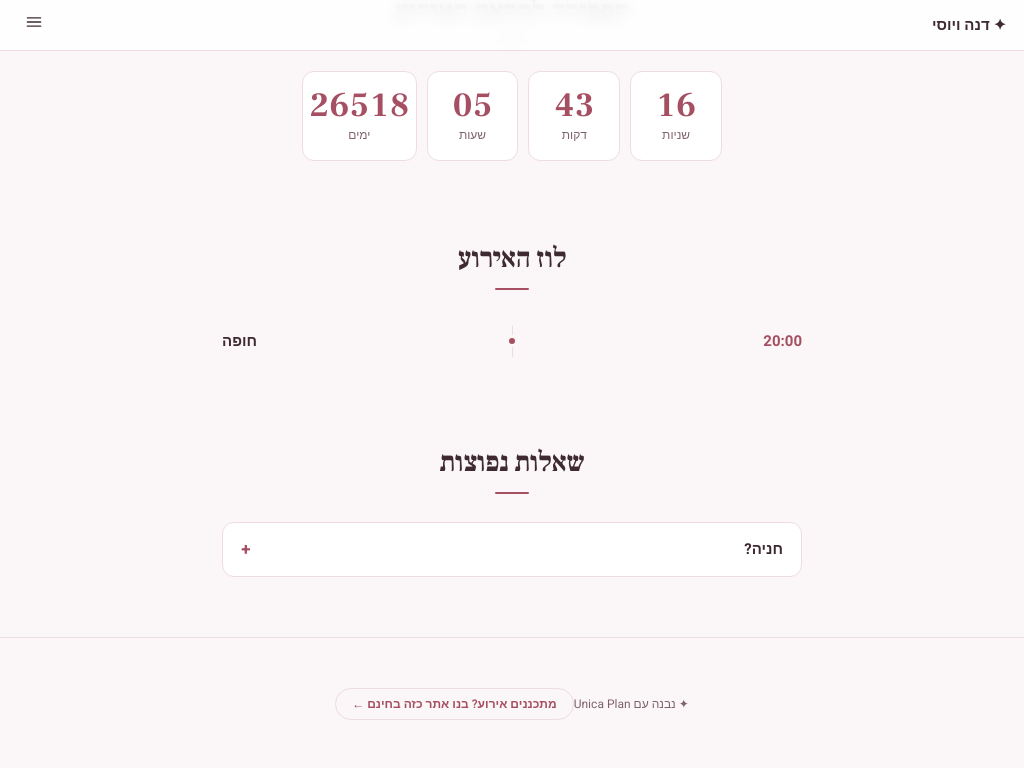
Test: event site menu and FAQ › an FAQ question reports whether it is open
(page scrolled)
Click the button "חניה? +" at [764, 549], box 223,523 -> 801,576
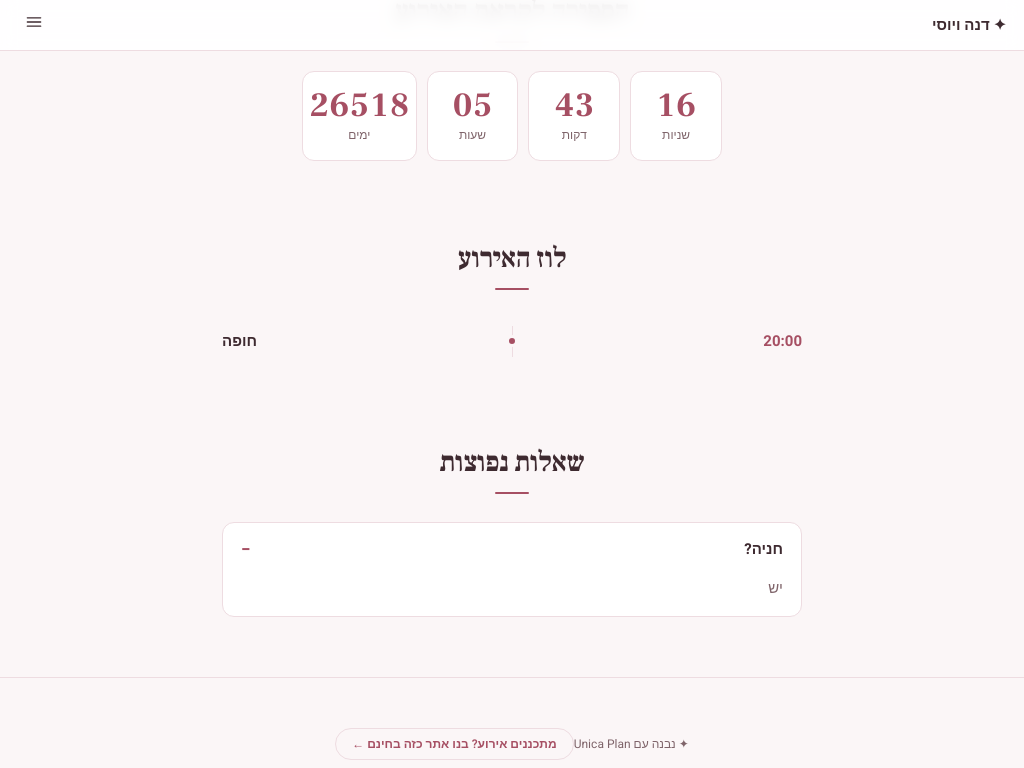
Expected: the button "חניה? −" is expanded, 223,523 -> 801,576
Expected: the text "יש" is shown, 768,577 -> 783,599
